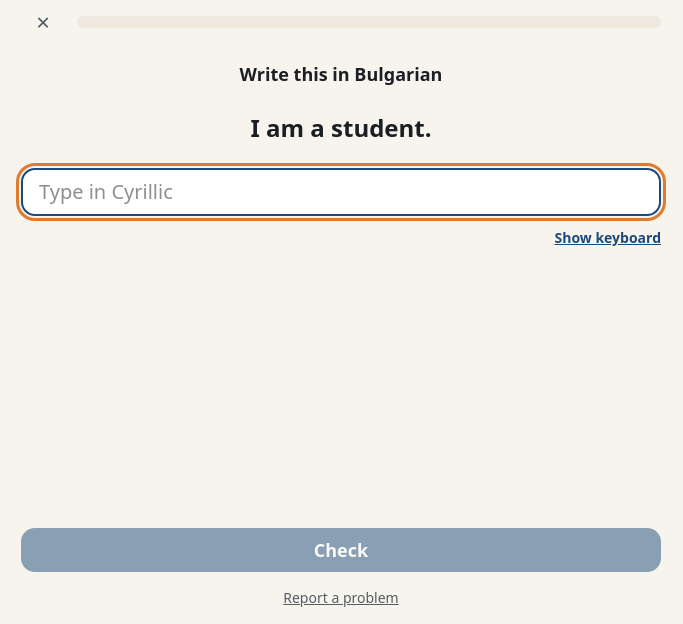
type_translate › asks for Cyrillic when translating into Bulgarian with Latin letters
The width and height of the screenshot is (683, 624).
Expected: the heading "Write this in Bulgarian" is shown, [240,62,442,86]
Type "az sam student" into the field named "Your answer" at coordinates (341, 192), box [21,168,661,216]
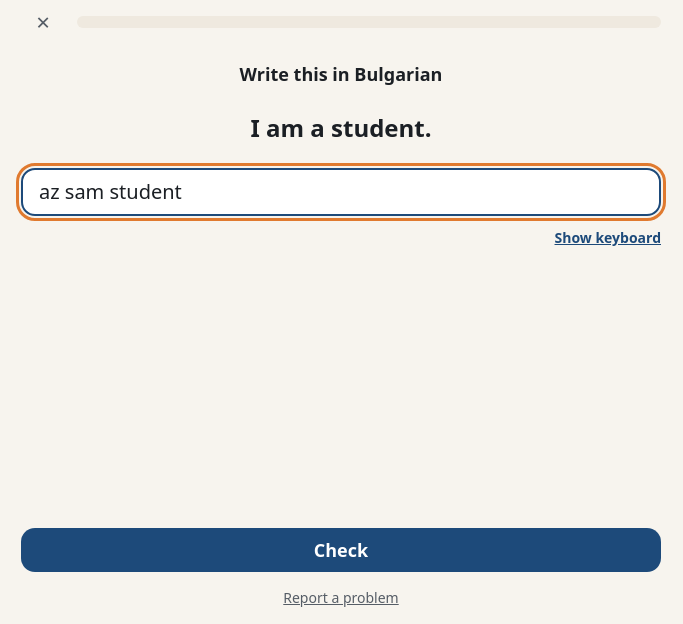
Press Enter
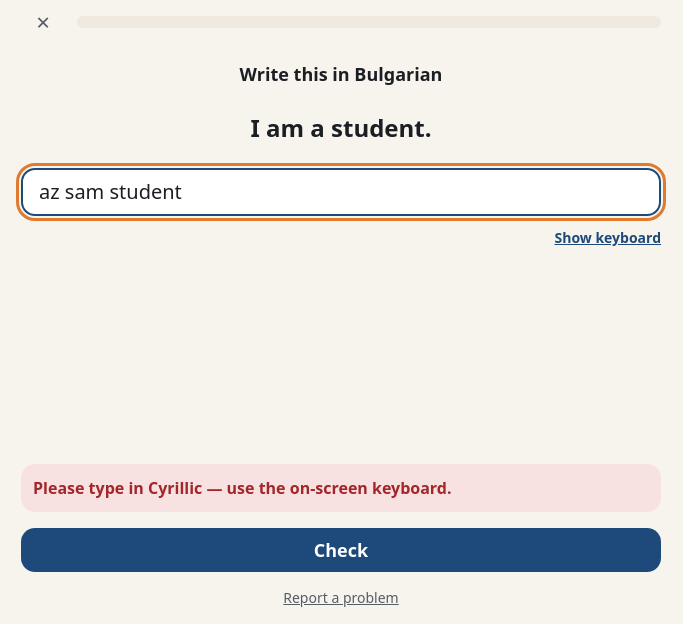
Now the message shows "Cyrillic", box [33,477,452,499]
